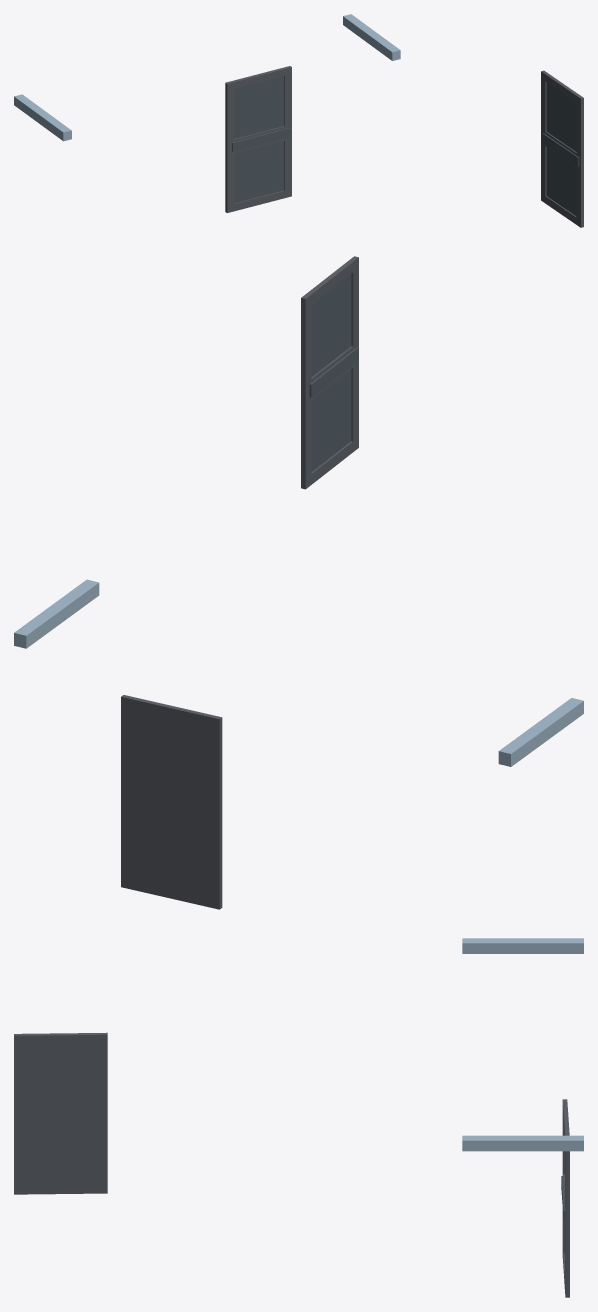
The model's file is FixedNormals.fbx.
3 renders of one model, top to bottom at view 1: azimuth 30°, elevation 25°; view 2: azimuth 150°, elevation 25°; view 3: azimuth 270°, elevation 25°, orthographic. The views are drawn at different scales.
Parts seen in each view (by area): view 1: Door.001, Door, SupportCeiling.006, SupportCeiling.007; view 2: Door.001, Door, SupportCeiling.006, SupportCeiling.007; view 3: Door, SupportCeiling.007, SupportCeiling.006, Door.001.
Boxes of the visible parts, box(x1,y1,x2,y2) form: Door.001: box(225, 66, 291, 213); Door: box(541, 70, 583, 227); SupportCeiling.006: box(14, 94, 71, 141); SupportCeiling.007: box(343, 14, 400, 60); Door.001: box(121, 695, 222, 909); Door: box(301, 256, 358, 489); SupportCeiling.006: box(498, 698, 583, 766); SupportCeiling.007: box(14, 579, 99, 648); Door: box(14, 1032, 107, 1194); SupportCeiling.007: box(462, 1135, 583, 1151); SupportCeiling.006: box(462, 938, 583, 953); Door.001: box(561, 1099, 569, 1297).
Bounding box in the file's own units: 8044 × 5594 × 9551.
